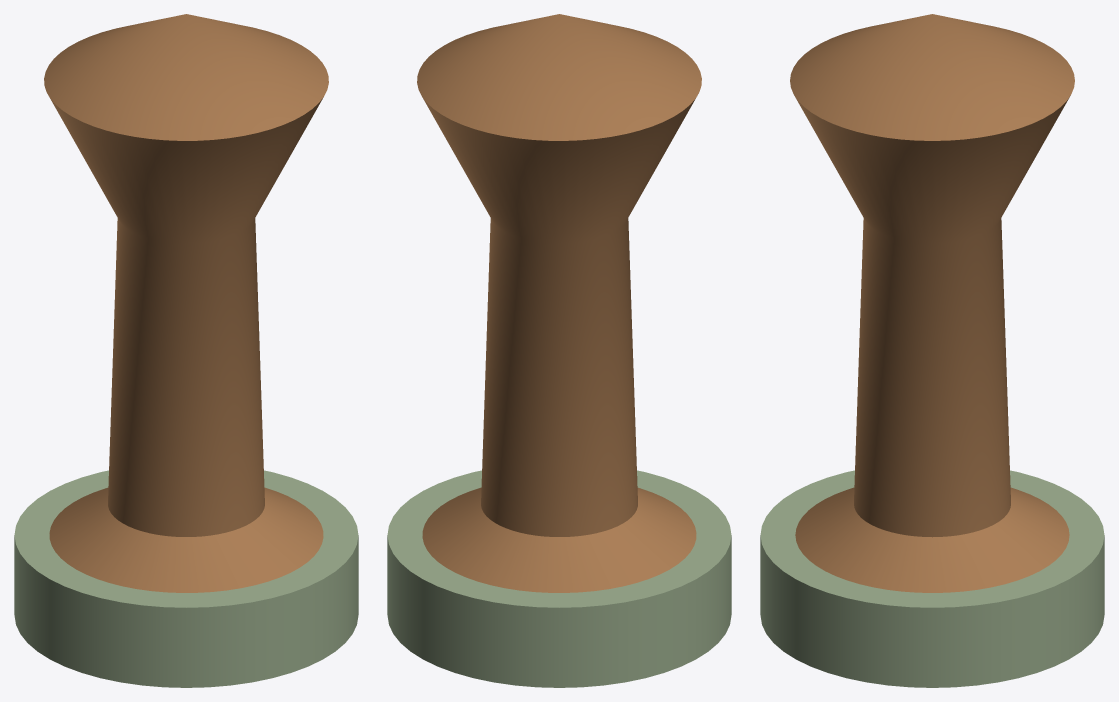
File: desert-caravanserai-and-bazaar-merchant-seal-f8ad6b2c__30469.glb
3 renders of one model, left to right at view 1: azimuth 30°, elevation 25°; view 2: azimuth 150°, elevation 25°; view 3: azimuth 270°, elevation 25°, orthographic.
Visible parts, largest first — view 1: merchant-seal; view 2: merchant-seal; view 3: merchant-seal.
Part boxes in pixels (x1=…): merchant-seal: x1=14, y1=14, x2=358, y2=687; merchant-seal: x1=387, y1=14, x2=731, y2=687; merchant-seal: x1=760, y1=14, x2=1104, y2=687.
Size of the model in its own units: 0.07 by 0.135 by 0.07.
